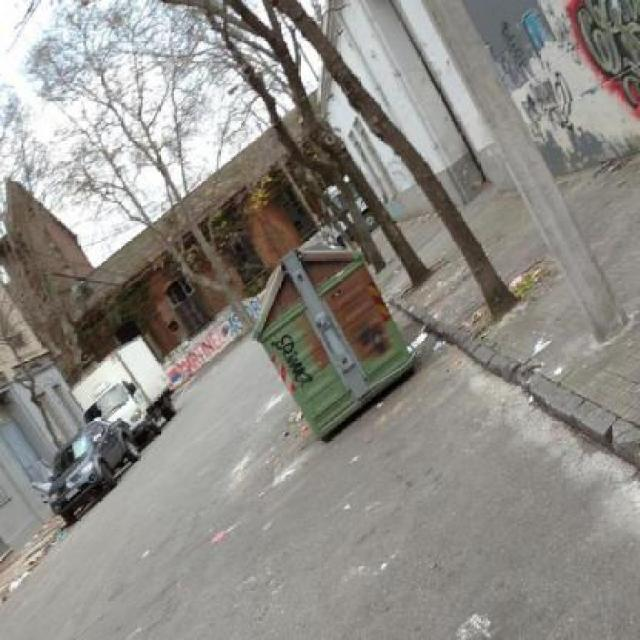garbage: (400, 320, 462, 360), (0, 570, 25, 599)
